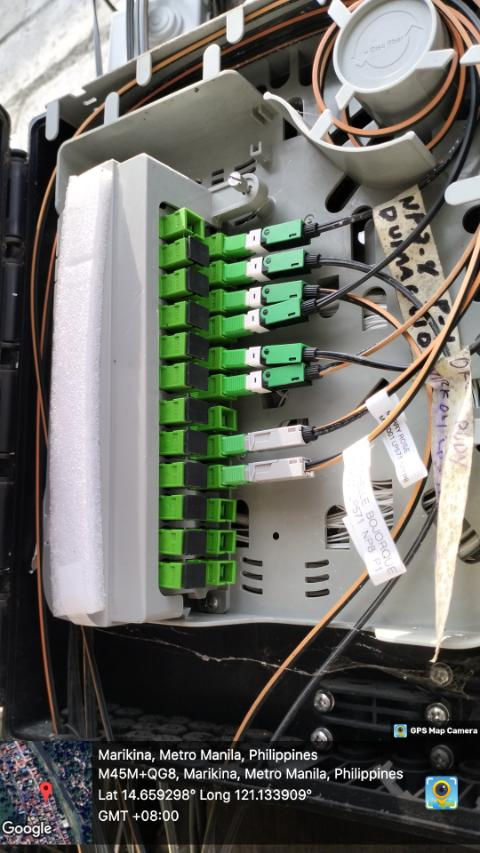no dust cap: (185, 209, 204, 237), (219, 560, 237, 585), (217, 501, 236, 522), (218, 531, 235, 553), (220, 408, 236, 429)
occupied: (221, 359, 325, 396), (222, 296, 316, 335), (221, 216, 320, 253), (221, 246, 321, 279), (221, 421, 317, 455), (220, 454, 321, 485), (222, 277, 318, 309), (221, 342, 319, 368)
vacant: (182, 563, 207, 590), (187, 236, 209, 266), (188, 331, 209, 362), (189, 267, 209, 298), (187, 302, 209, 330), (187, 363, 209, 391), (184, 495, 207, 520), (186, 461, 206, 489), (184, 531, 207, 554), (187, 429, 208, 454), (187, 398, 208, 423)
